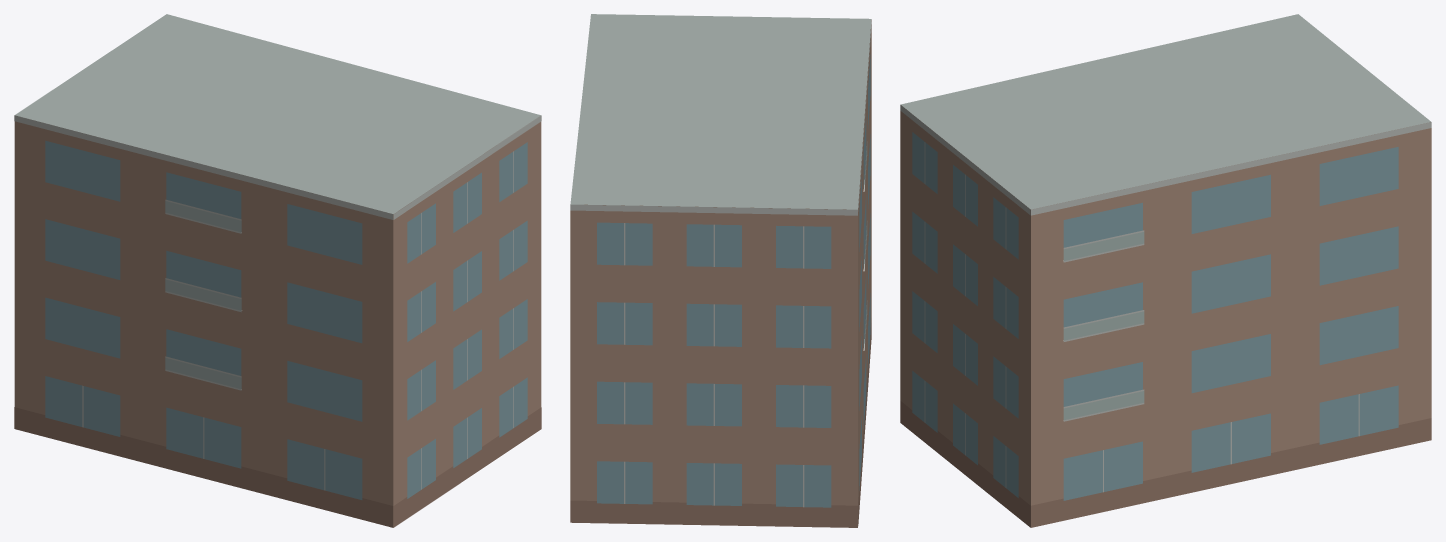
The model's file is survey-upis-32882552.glb.
The picture shows the model from 3 angles, left to right: view 1: azimuth 30°, elevation 25°; view 2: azimuth 150°, elevation 25°; view 3: azimuth 270°, elevation 25°; orthographic projection.
Visible parts, largest first — view 1: survey-upis-32882552.tmp; view 2: survey-upis-32882552.tmp; view 3: survey-upis-32882552.tmp.
Part boxes in pixels (left/top/right/bottom): survey-upis-32882552.tmp: left=14, top=14, right=541, bottom=527; survey-upis-32882552.tmp: left=570, top=14, right=871, bottom=527; survey-upis-32882552.tmp: left=900, top=14, right=1431, bottom=527.
Bounding box in the file's own units: 16.88 × 12.8 × 19.37.
